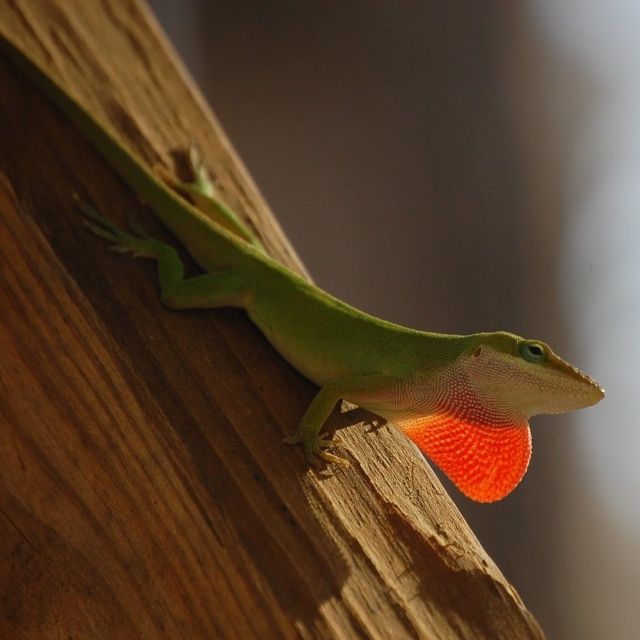Lizard: (2, 57, 601, 460)
